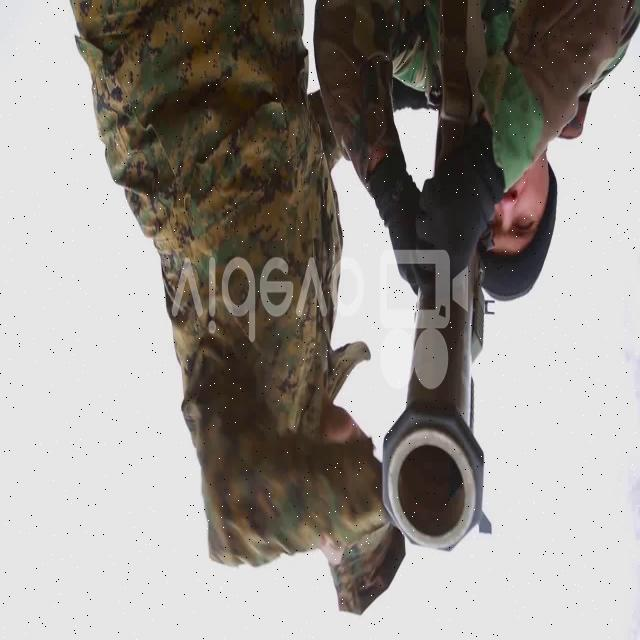bazooka: (373, 56, 504, 562)
